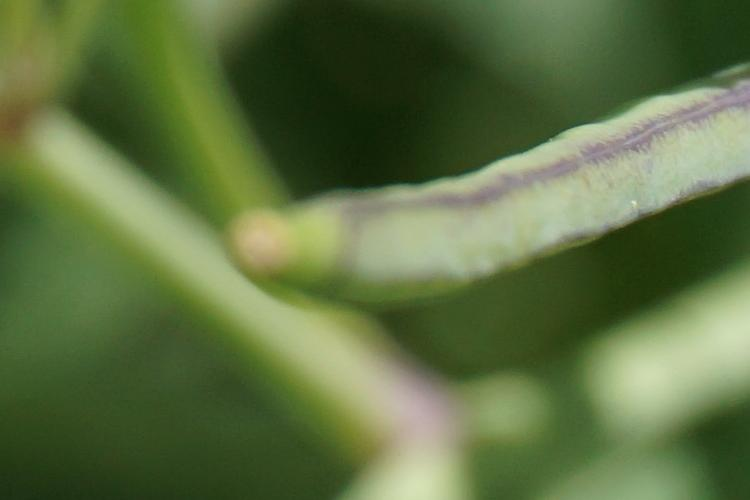pod: (194, 123, 719, 299)
